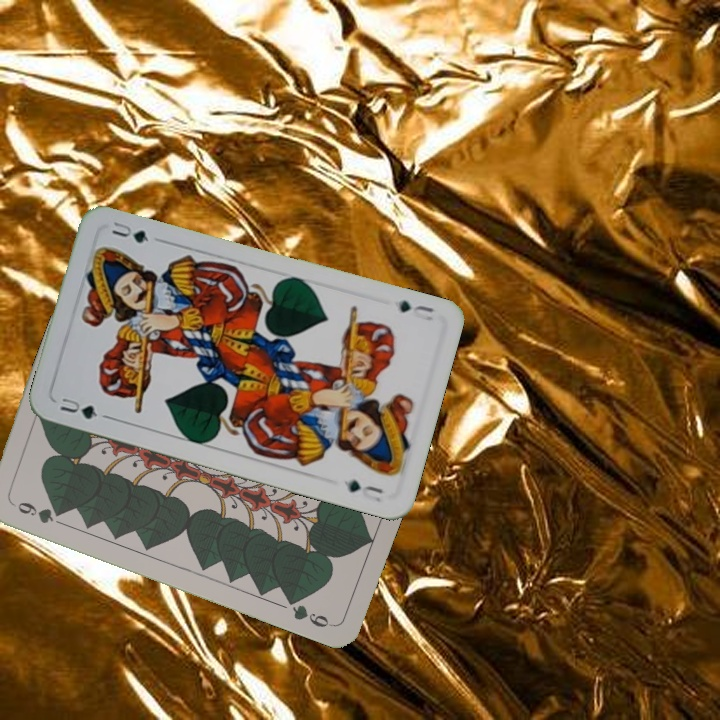G9: (7, 498, 66, 527)
GU: (56, 393, 110, 422), (394, 296, 437, 317)
